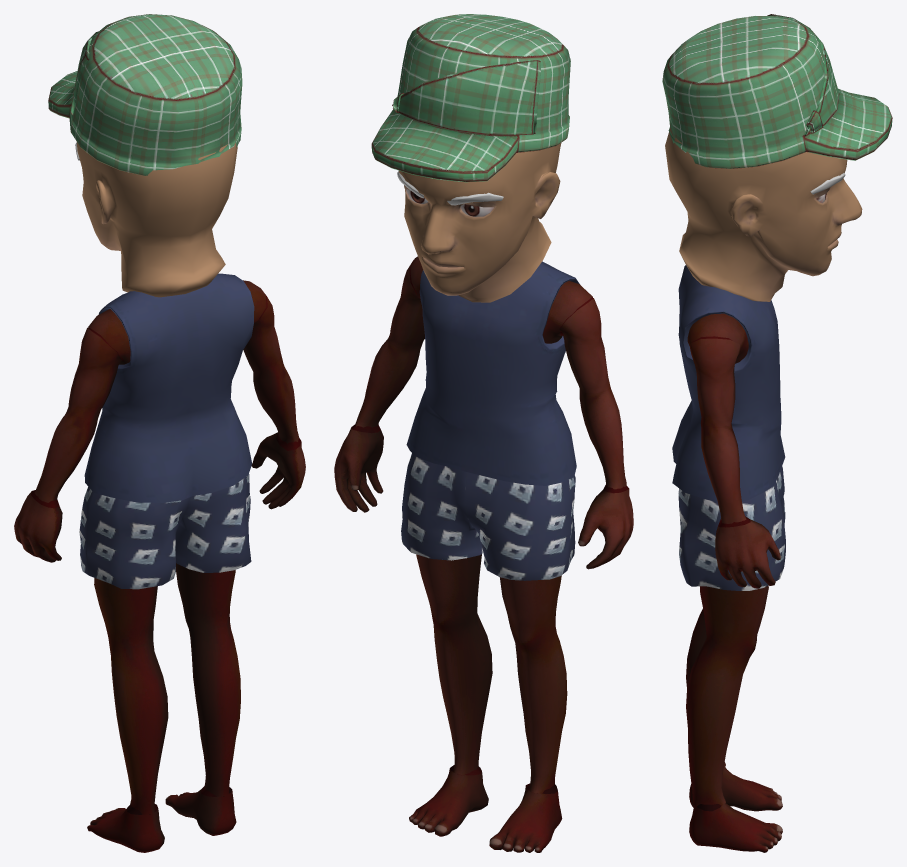
File: Rolf.obj
3 views of the same model, side by side, from view 1: azimuth 30°, elevation 25°; view 2: azimuth 150°, elevation 25°; view 3: azimuth 270°, elevation 25° (orthographic). The views are drawn at different scales.
Visible parts, largest first — view 1: Handle3, Handle4, Rolfmagnus10, Handle2, Rolfmagnus5, Rolfmagnus2, Rolfmagnus6, Rolfmagnus9, Rolfmagnus3, Rolfmagnus8, Rolfmagnus11, Rolfmagnus4 (+5 smaller); view 2: Handle3, Handle4, Rolfmagnus10, Handle2, Rolfmagnus2, Rolfmagnus5, Rolfmagnus3, Rolfmagnus11, Rolfmagnus9, Rolfmagnus4, Rolfmagnus6, Rolfmagnus1 (+6 smaller); view 3: Handle4, Rolfmagnus10, Handle3, Rolfmagnus2, Handle2, Rolfmagnus3, Rolfmagnus13, Rolfmagnus11, Rolfmagnus1, Rolfmagnus12, Rolfmagnus4, Rolfmagnus14 (+1 smaller).
Boxes of the visible parts, x1,y1,x2,y2 form: Handle3: (84, 273, 254, 502); Handle4: (48, 14, 242, 175); Rolfmagnus10: (77, 142, 237, 297); Handle2: (79, 474, 251, 589); Rolfmagnus5: (108, 636, 168, 814); Rolfmagnus2: (186, 622, 240, 796); Rolfmagnus6: (94, 578, 157, 648); Rolfmagnus9: (67, 327, 121, 418); Rolfmagnus3: (176, 563, 235, 628); Rolfmagnus8: (34, 412, 98, 502); Rolfmagnus11: (251, 432, 305, 509); Rolfmagnus4: (87, 804, 164, 852); Handle3: (406, 261, 580, 485); Handle4: (371, 14, 570, 182); Rolfmagnus10: (399, 143, 561, 302); Handle2: (401, 453, 575, 580); Rolfmagnus2: (432, 613, 492, 775); Rolfmagnus5: (512, 627, 567, 793); Rolfmagnus3: (416, 554, 481, 619); Rolfmagnus11: (334, 424, 383, 512); Rolfmagnus9: (559, 298, 610, 393); Rolfmagnus4: (489, 783, 562, 852); Rolfmagnus6: (500, 575, 561, 639); Rolfmagnus1: (409, 765, 488, 836); Handle4: (662, 14, 892, 168); Rolfmagnus10: (665, 128, 862, 301); Handle3: (672, 265, 785, 502); Rolfmagnus2: (686, 638, 756, 806); Handle2: (678, 466, 785, 590); Rolfmagnus3: (700, 585, 768, 650); Rolfmagnus13: (690, 338, 740, 427); Rolfmagnus11: (715, 516, 781, 588); Rolfmagnus1: (689, 803, 782, 852); Rolfmagnus12: (701, 423, 746, 523); Rolfmagnus4: (689, 767, 782, 811); Rolfmagnus14: (687, 313, 748, 363).
Size of the model in its own units: 2.35 by 6.34 by 1.67.
